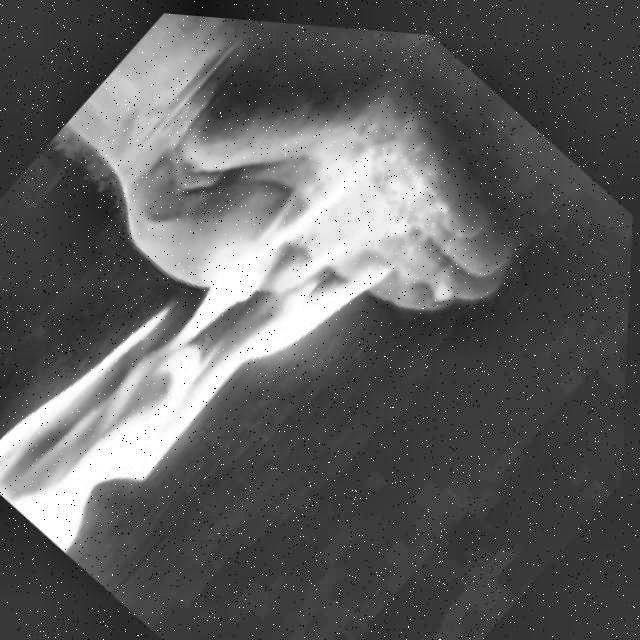Fire: (0, 65, 452, 614)
